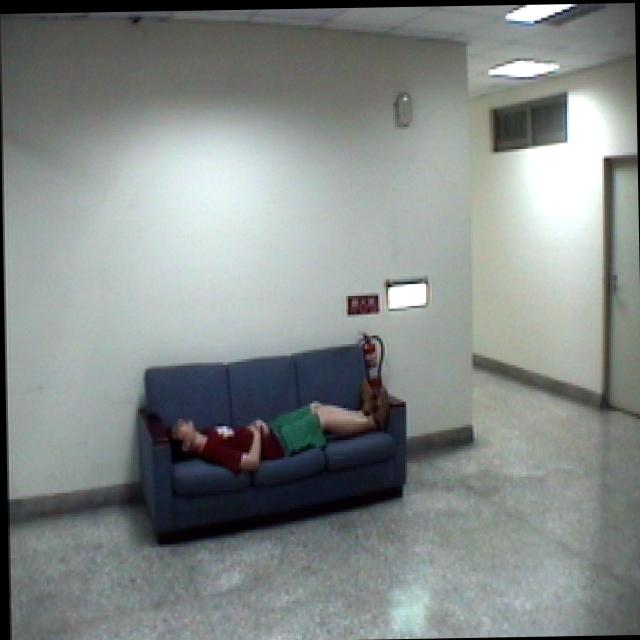lie: (159, 370, 396, 472)
